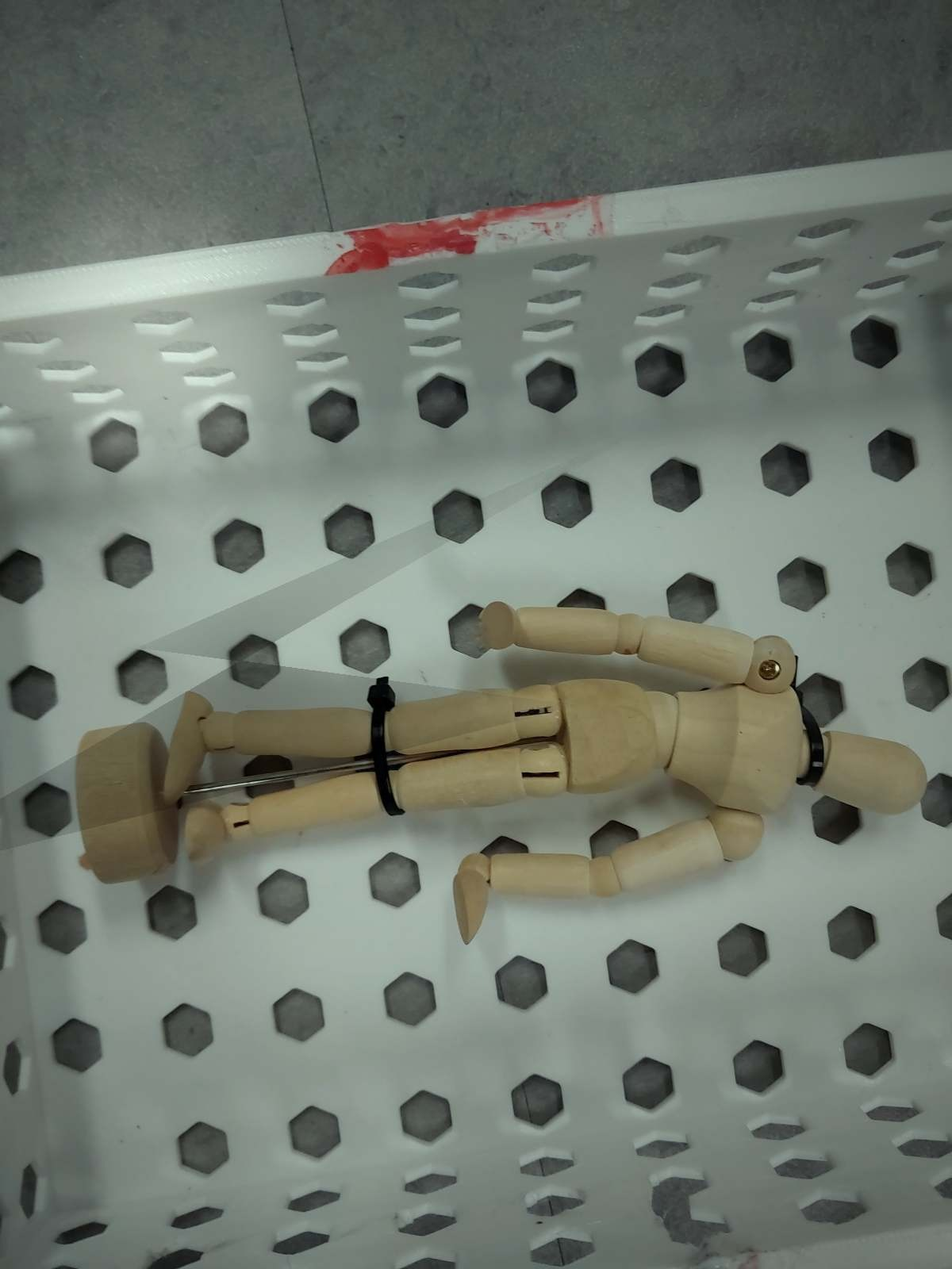mannequin: (70, 597, 941, 955)
